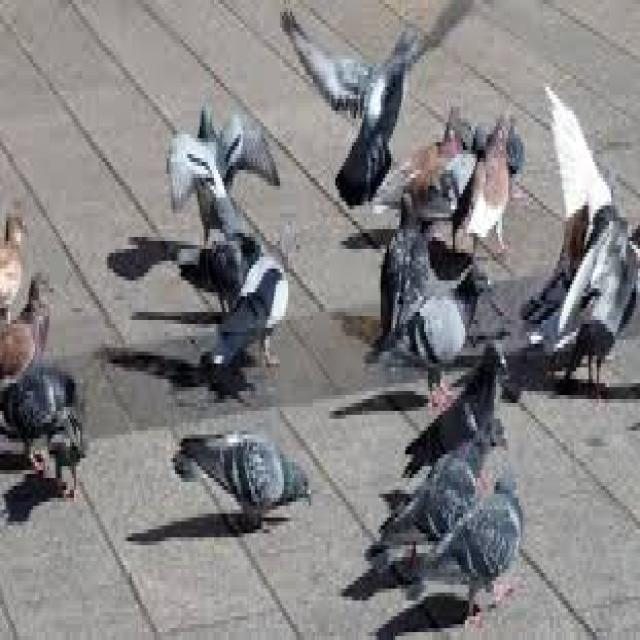pigeon: (266, 0, 479, 208)
